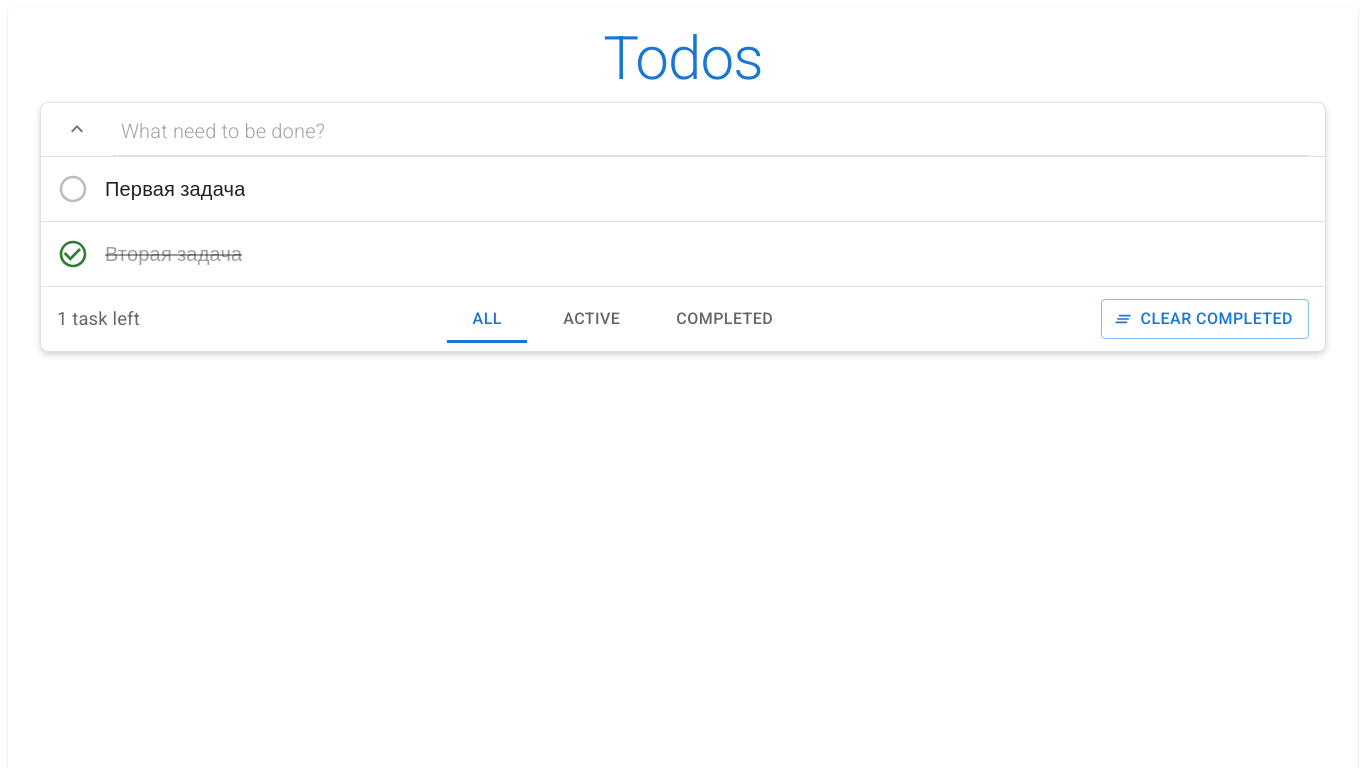
Scenario: Фильтрация и очистка задач › Очистка выполненных задач
The image size is (1366, 768).
Expected: the text "Первая задача" is shown, [105,174,246,204]
Click the button with test id "clear-task-button": (1205, 319) [1101,299,1309,339]
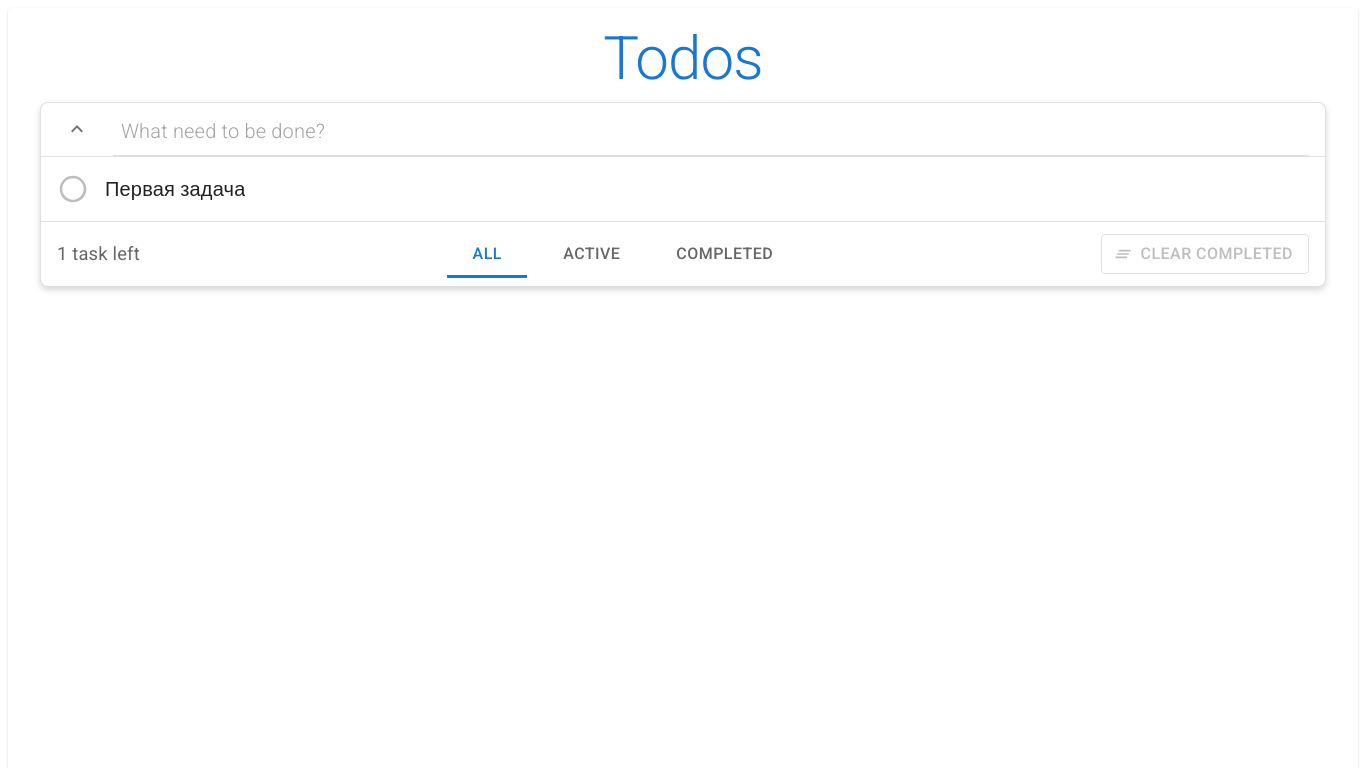
Expected: the text "Первая задача" is shown, [105,174,246,204]
Result: the text "Вторая задача" is gone
Result: the button with test id "clear-task-button" is disabled at [1101,234,1309,274]
